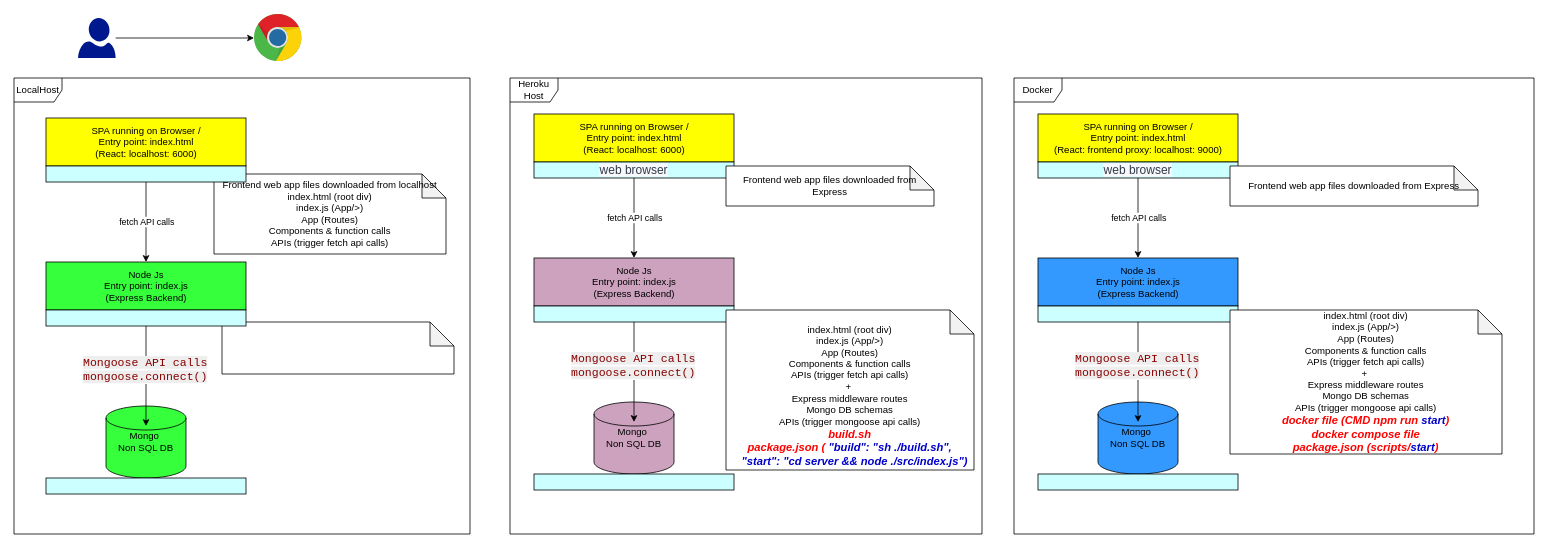
The diagram is 1548 pixels wide and 548 high, and some of its shapes have lost their labels. Here are the shapes that lost their labels. From the top down, the centre of each, then its label:
(96,38): User
(145,173): frontend proxy: localhost: 6000
(145,317): backend server: localhost: 6000
(633,313): nameless-hollows-38543
(1137,313): Docker Container - app
(337,347): Express middleware routes Mongo DB schemas APIs (trigger mongoose api calls)
(145,485): localhost: 27017
(633,481): ds151993.mlab.com:51993/heroku_j1qnntw9
(1137,481): Docker Container -db
